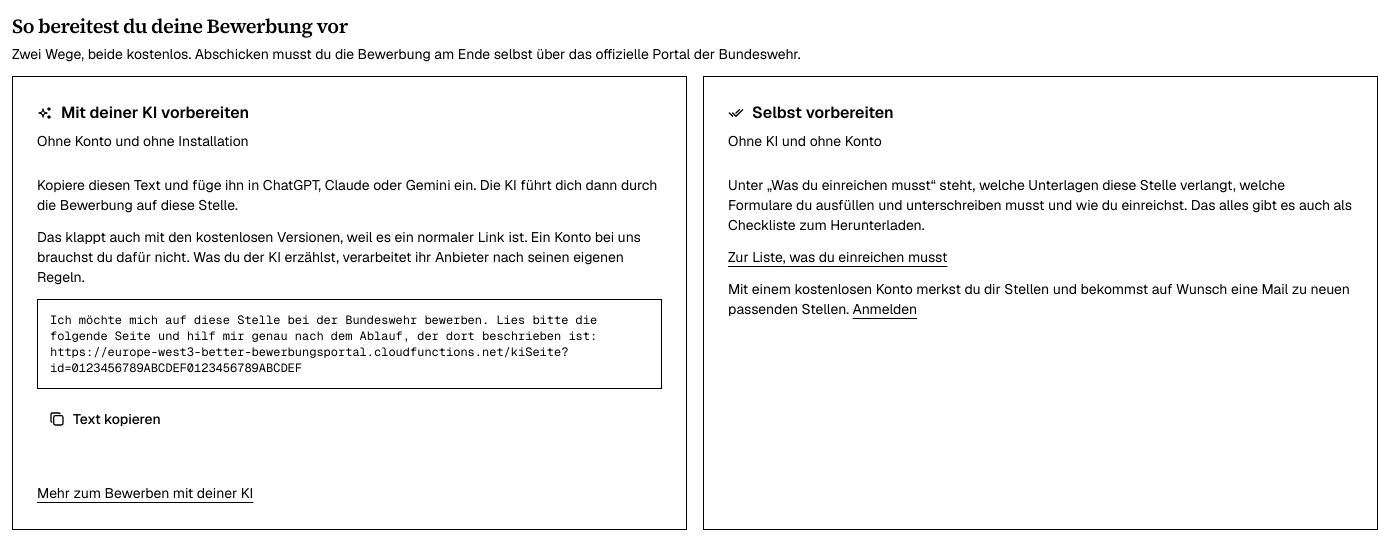
Test case: BewerbungsWege › meldet, wenn das Kopieren scheitert
Step 1. Click the button "Text kopieren" → (105, 419), box [37,401,173,437]
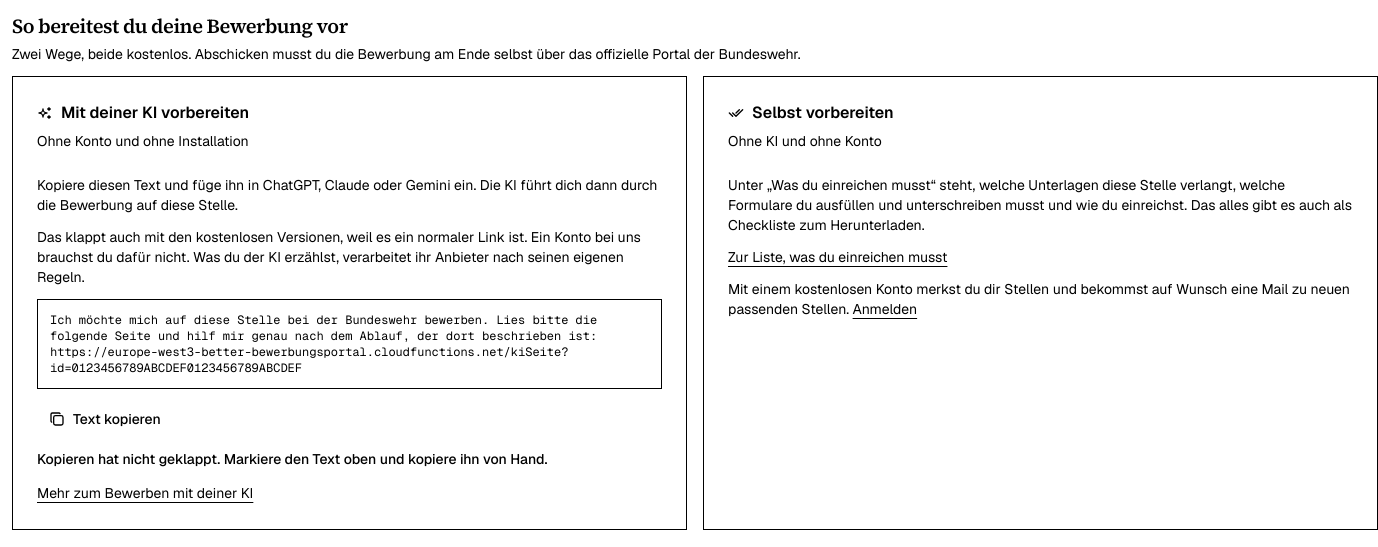
Result: the message shows "von Hand" at [37,450,548,468]
